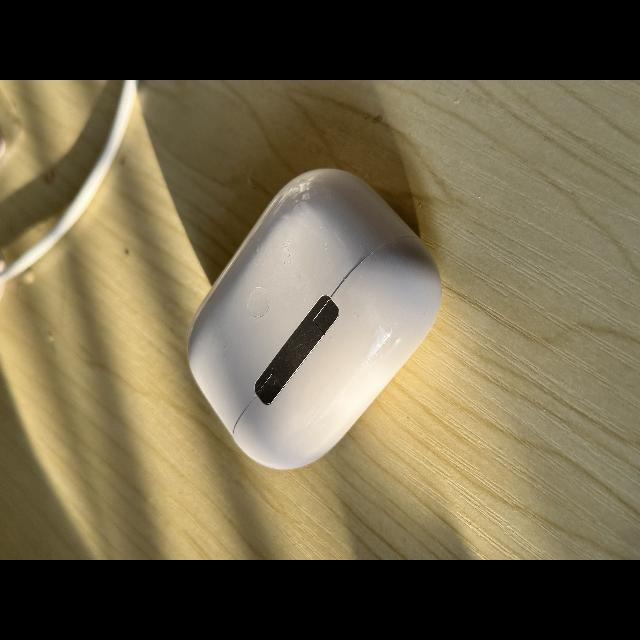AirPods Pro: (188, 168, 442, 469)
